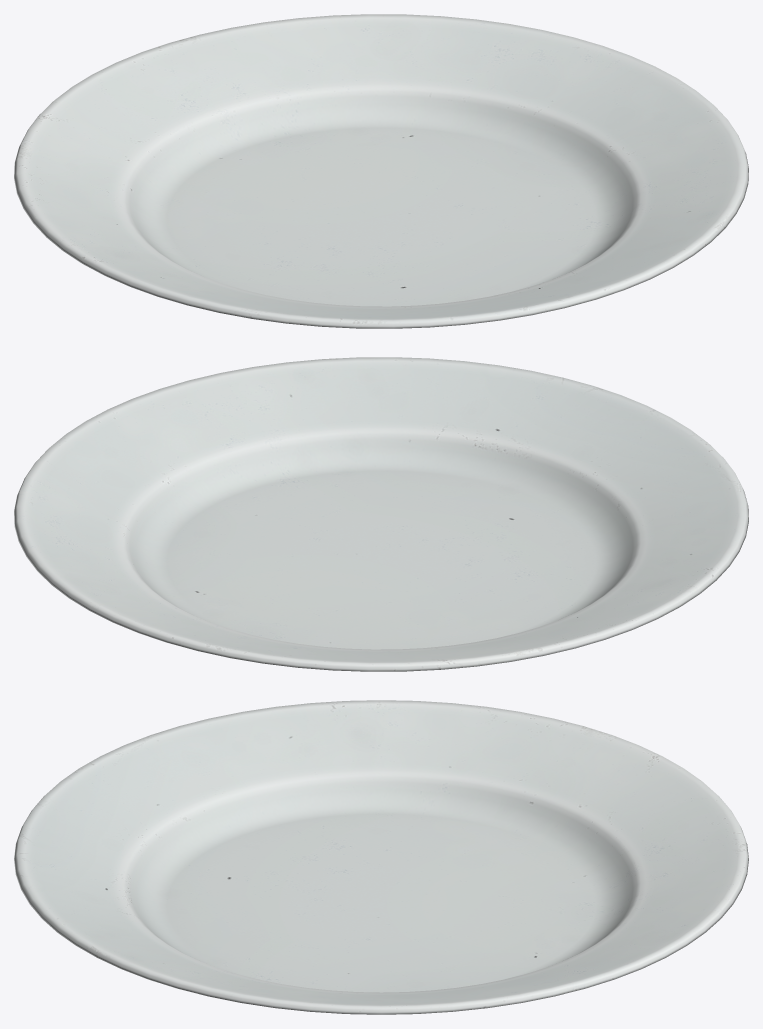
The model's file is white_dish.glb.
3 views of the same model, one above another, from view 1: azimuth 30°, elevation 25°; view 2: azimuth 150°, elevation 25°; view 3: azimuth 270°, elevation 25° (orthographic).
Visible parts, largest first — view 1: SM_WhitePorcelainDish_M_WhitePorcelainDish_0; view 2: SM_WhitePorcelainDish_M_WhitePorcelainDish_0; view 3: SM_WhitePorcelainDish_M_WhitePorcelainDish_0.
Part boxes in pixels (x1,y1,x2,y2): SM_WhitePorcelainDish_M_WhitePorcelainDish_0: (14, 14, 748, 328); SM_WhitePorcelainDish_M_WhitePorcelainDish_0: (14, 357, 748, 671); SM_WhitePorcelainDish_M_WhitePorcelainDish_0: (14, 700, 748, 1014).
Size of the model in its own units: 0.2094 by 0.0187 by 0.2094.
1 material, 1 textured.
